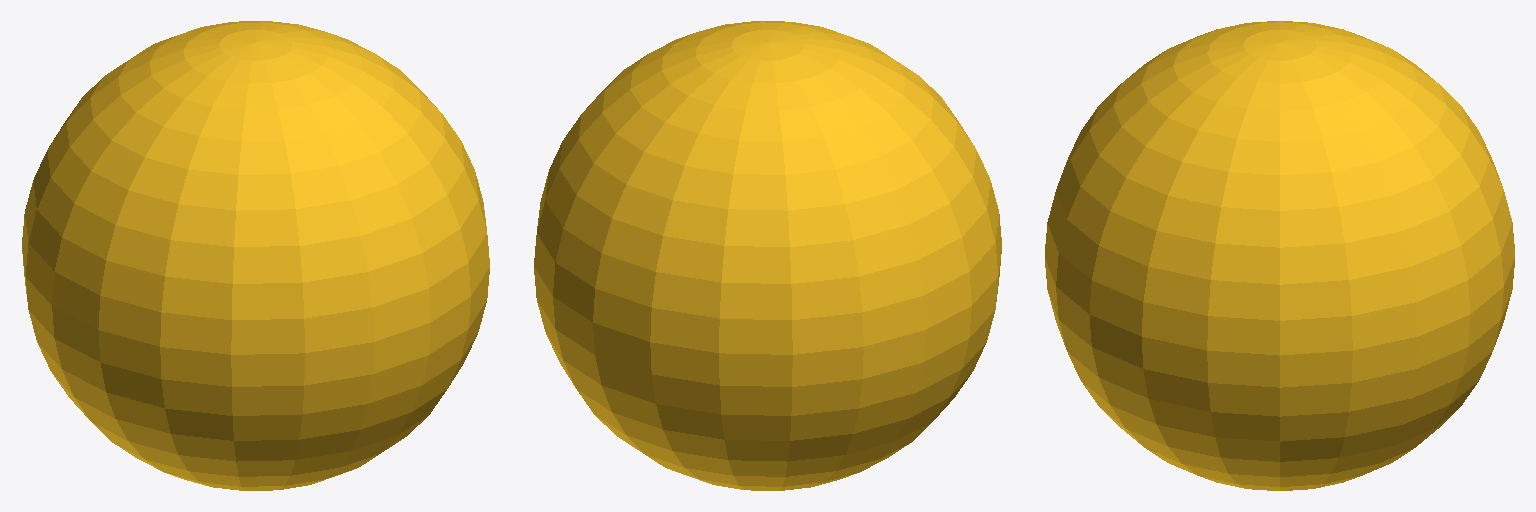
File: sun.obj
3 views of the same model, side by side, from view 1: azimuth 30°, elevation 25°; view 2: azimuth 150°, elevation 25°; view 3: azimuth 270°, elevation 25° (orthographic).
Parts seen in each view (by area): view 1: Sun; view 2: Sun; view 3: Sun.
Boxes of the visible parts, box(x1,y1,x2,y2) form: Sun: box(22, 21, 489, 490); Sun: box(534, 21, 1001, 490); Sun: box(1045, 21, 1514, 490).
Size of the model in its own units: 2 by 2 by 2.